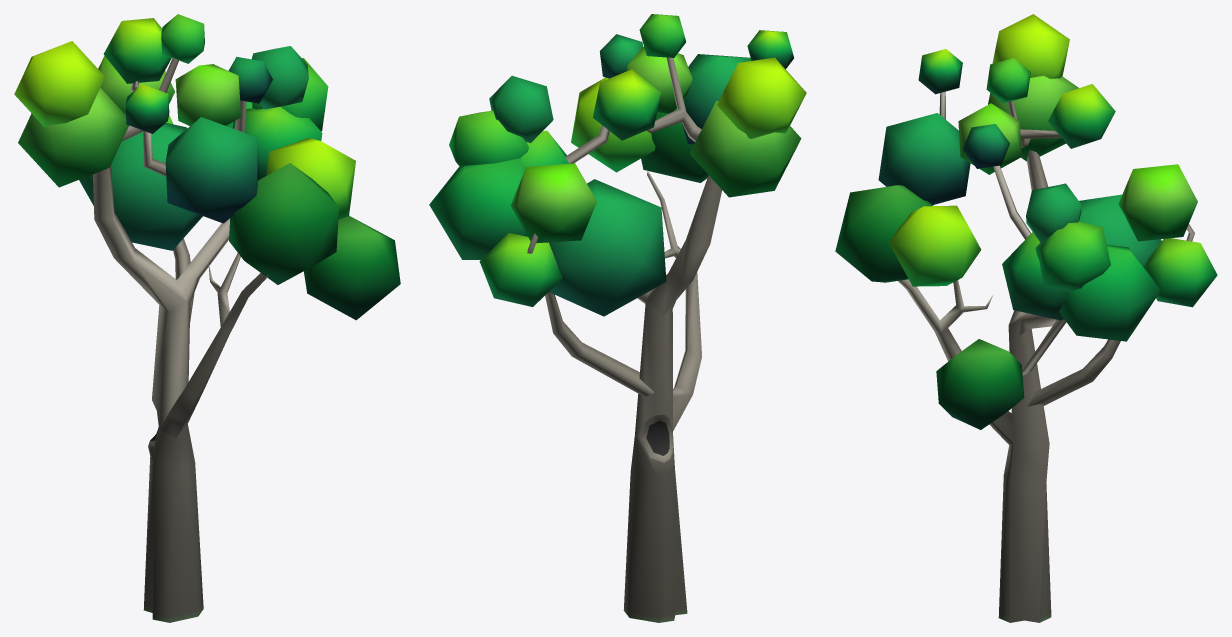
File: Tree_1L.fbx
The picture shows the model from 3 angles, left to right: view 1: azimuth 30°, elevation 25°; view 2: azimuth 150°, elevation 25°; view 3: azimuth 270°, elevation 25°; orthographic projection. The views are drawn at different scales.
Visible parts, largest first — view 1: Tree_1L; view 2: Tree_1L; view 3: Tree_1L.
Boxes of the visible parts, x1,y1,x2,y2 form: Tree_1L: (14,14,400,622); Tree_1L: (429,14,806,622); Tree_1L: (835,14,1217,622).
Size of the model in its own units: 3.3 by 5.45 by 3.41.
